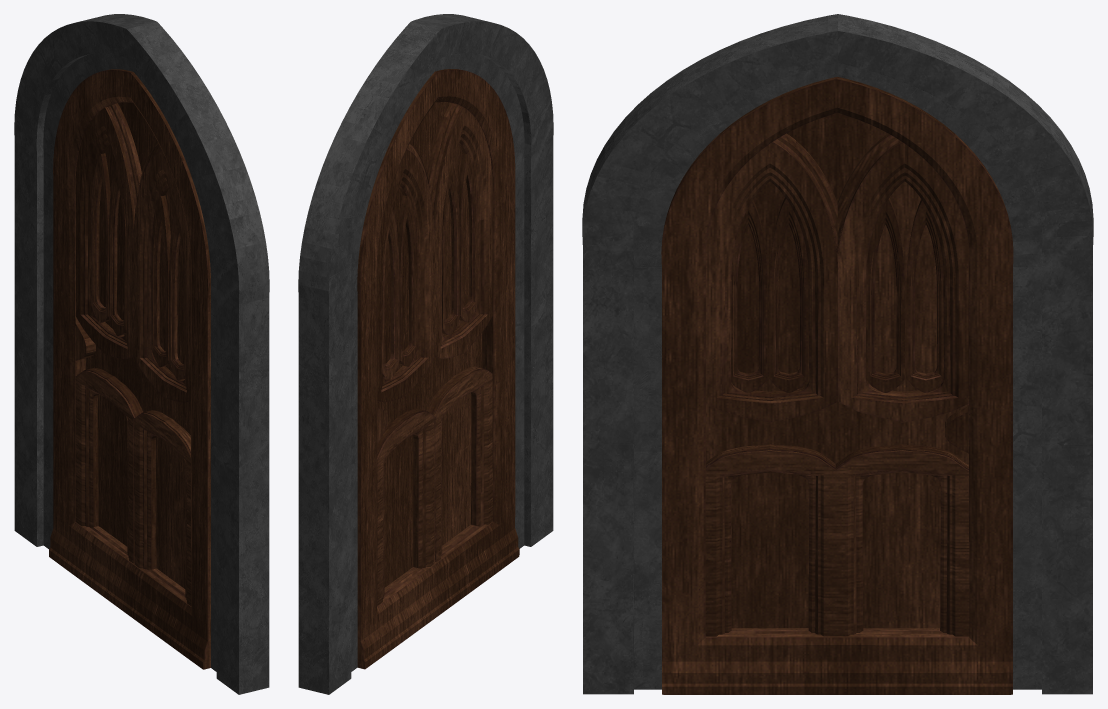
Rendered from f_door_03.fbx.
The picture shows the model from 3 angles, left to right: view 1: azimuth 30°, elevation 25°; view 2: azimuth 150°, elevation 25°; view 3: azimuth 270°, elevation 25°; orthographic projection. The views are drawn at different scales.
Visible parts, largest first — view 1: Plane.005; view 2: Plane.005; view 3: Plane.005.
Boxes of the visible parts, x1,y1,x2,y2 form: Plane.005: [14, 14, 269, 694]; Plane.005: [298, 14, 553, 694]; Plane.005: [582, 14, 1093, 694].
Bounding box in the file's own units: 6.24 × 106 × 74.28.
